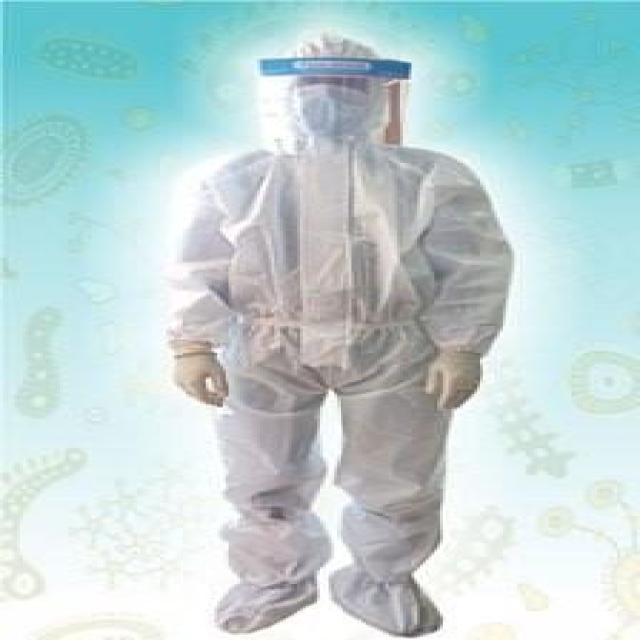Coverall: (163, 27, 523, 635)
Gloves: (420, 346, 486, 411), (163, 350, 234, 409)
Mask: (289, 85, 366, 134)
